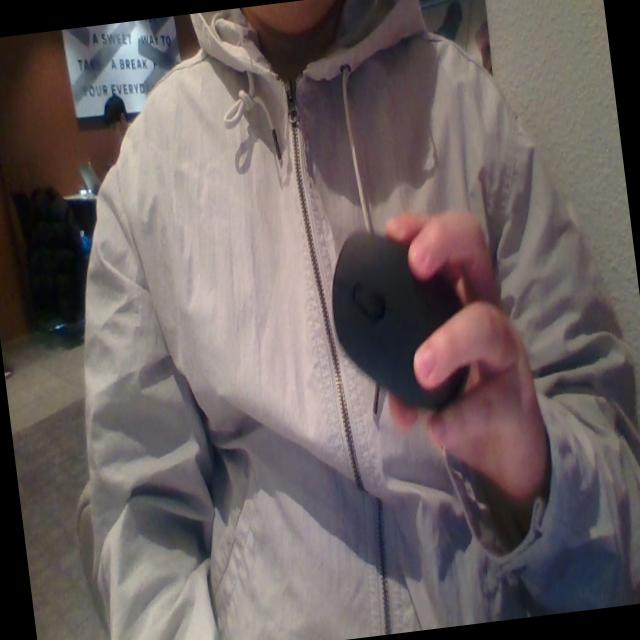grab_mouse: (319, 183, 548, 513)
mouse: (312, 210, 477, 408)
